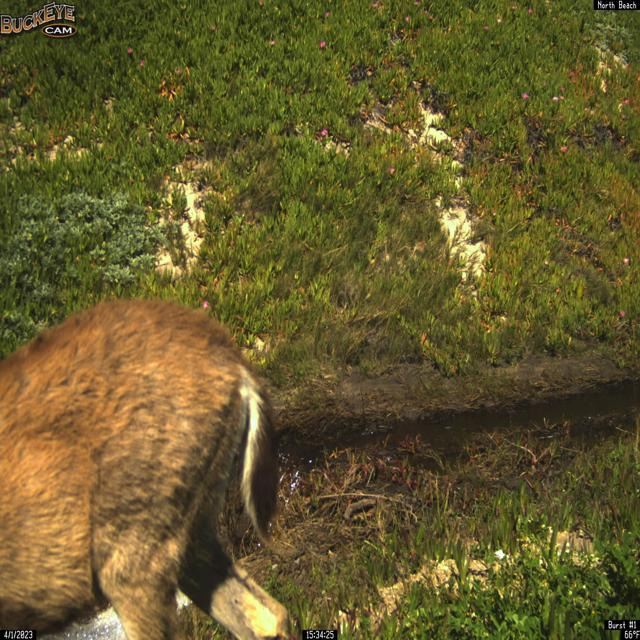deer: (0, 297, 299, 640)
